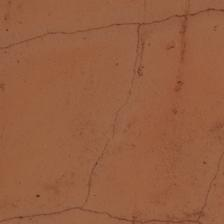Crack: (48, 7, 153, 215), (197, 25, 224, 213), (99, 47, 224, 78), (0, 145, 45, 214)
